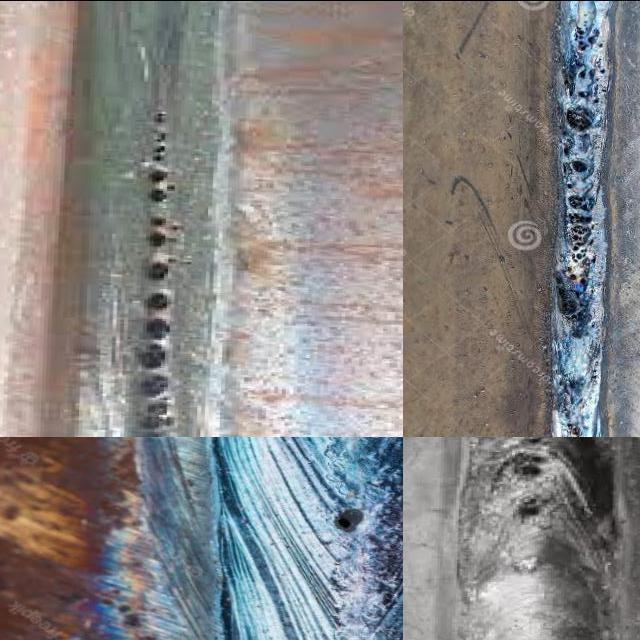defect: (124, 214, 179, 436), (551, 145, 601, 325), (557, 7, 609, 106), (144, 104, 180, 208), (507, 436, 552, 484), (504, 489, 552, 527), (329, 501, 371, 539), (563, 104, 595, 135), (560, 420, 585, 436)
